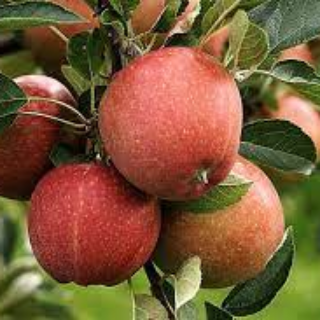tao: (100, 43, 247, 198), (23, 157, 164, 292)
